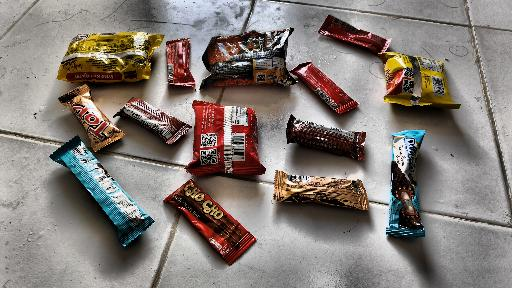chocho: (162, 177, 257, 267), (287, 63, 363, 119), (318, 10, 390, 62), (162, 37, 200, 97)
dilan: (42, 139, 157, 250), (388, 128, 430, 243)
indomie: (49, 30, 164, 86)
mie sedap: (198, 30, 300, 92)
momotaro: (184, 99, 267, 180), (379, 47, 465, 119)
top: (272, 169, 375, 221), (54, 90, 130, 154), (283, 110, 370, 163), (114, 96, 192, 149)
